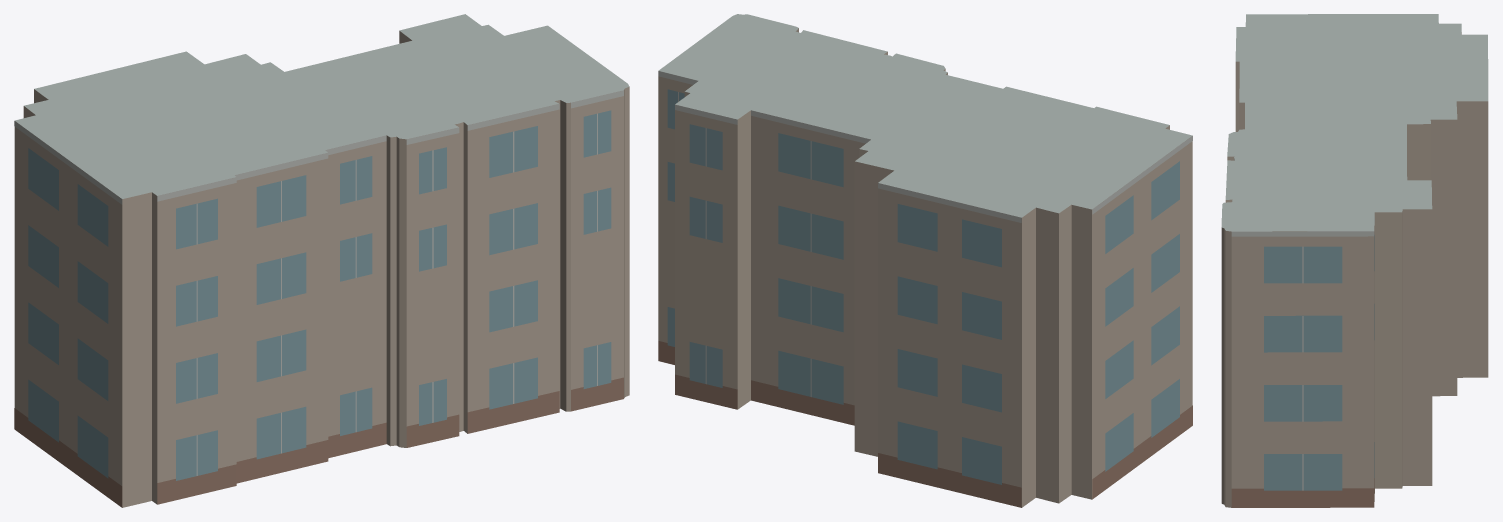
Rendered from survey-upis-32773731.glb.
The picture shows the model from 3 angles, left to right: view 1: azimuth 30°, elevation 25°; view 2: azimuth 150°, elevation 25°; view 3: azimuth 270°, elevation 25°; orthographic projection. The views are drawn at different scales.
Parts seen in each view (by area): view 1: survey-upis-32773731.tmp; view 2: survey-upis-32773731.tmp; view 3: survey-upis-32773731.tmp.
Boxes of the visible parts, x1,y1,x2,y2 form: survey-upis-32773731.tmp: (14,14,629,507); survey-upis-32773731.tmp: (658,14,1192,507); survey-upis-32773731.tmp: (1221,14,1488,507).
Size of the model in its own units: 21.95 by 13 by 11.39.
